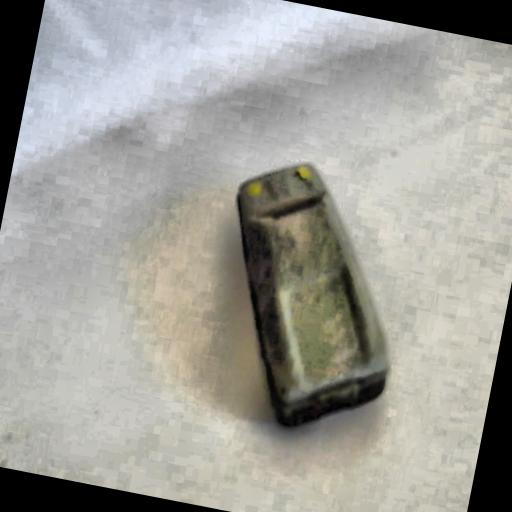normal_car: (189, 146, 428, 450)
